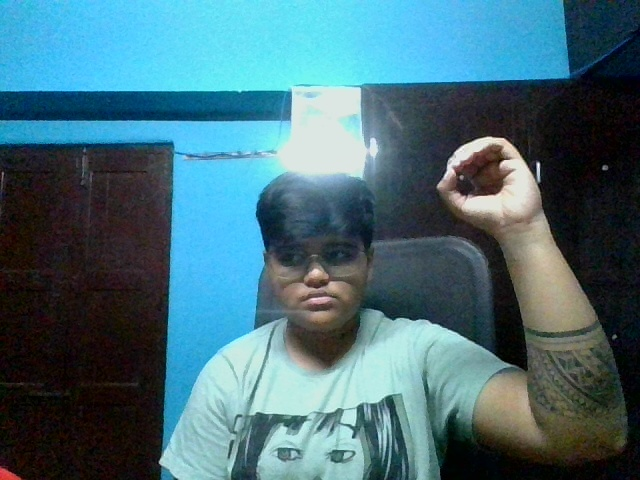O: (432, 131, 544, 234)
